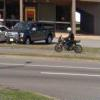Motorcycle: (50, 32, 85, 54)
